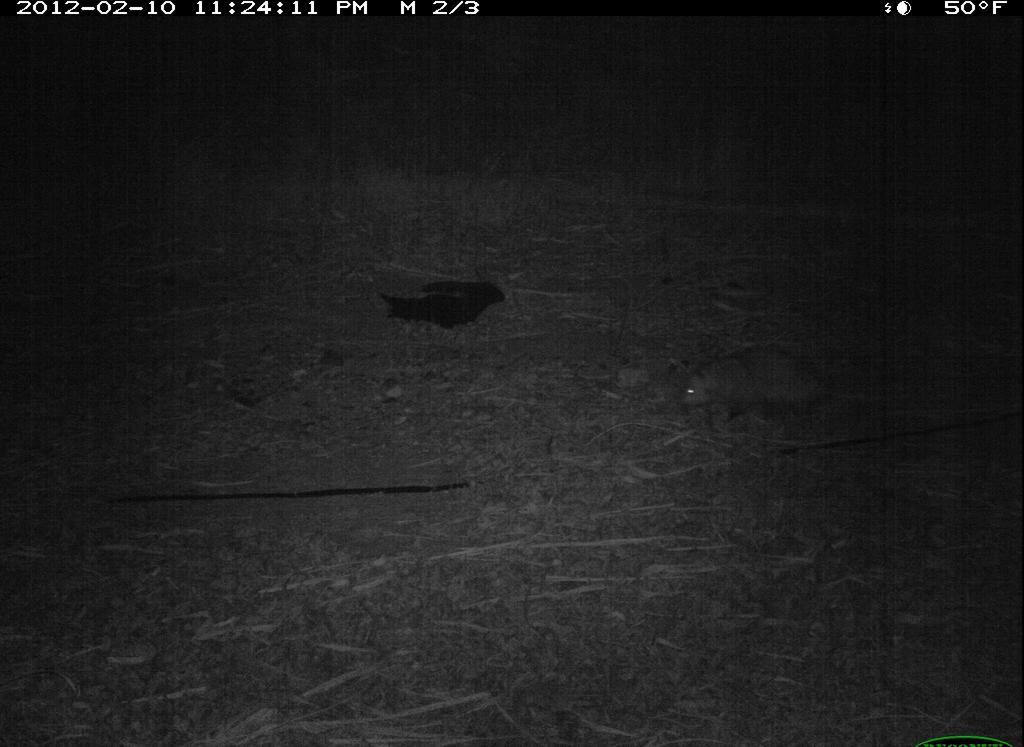opossum: (678, 332, 856, 443)
